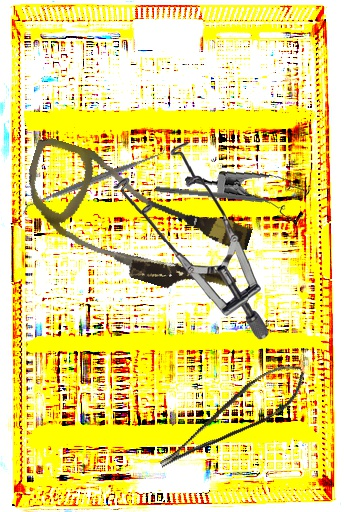Cannula: (7, 134, 262, 308)
Micro Scissor: (144, 355, 316, 474)
Pusher: (155, 186, 289, 207)
Spatula Surgical: (17, 144, 171, 217)
Speculum: (111, 140, 270, 344), (184, 160, 315, 236)
